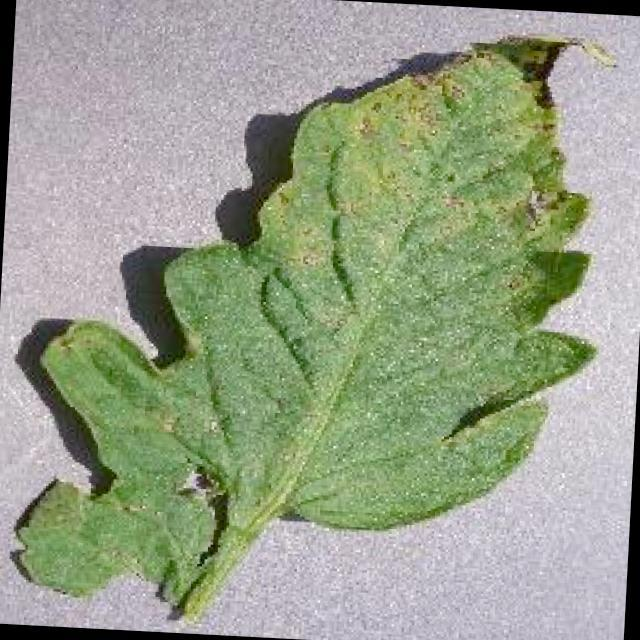Tomato Septoria spot leaf: (0, 4, 613, 620)
